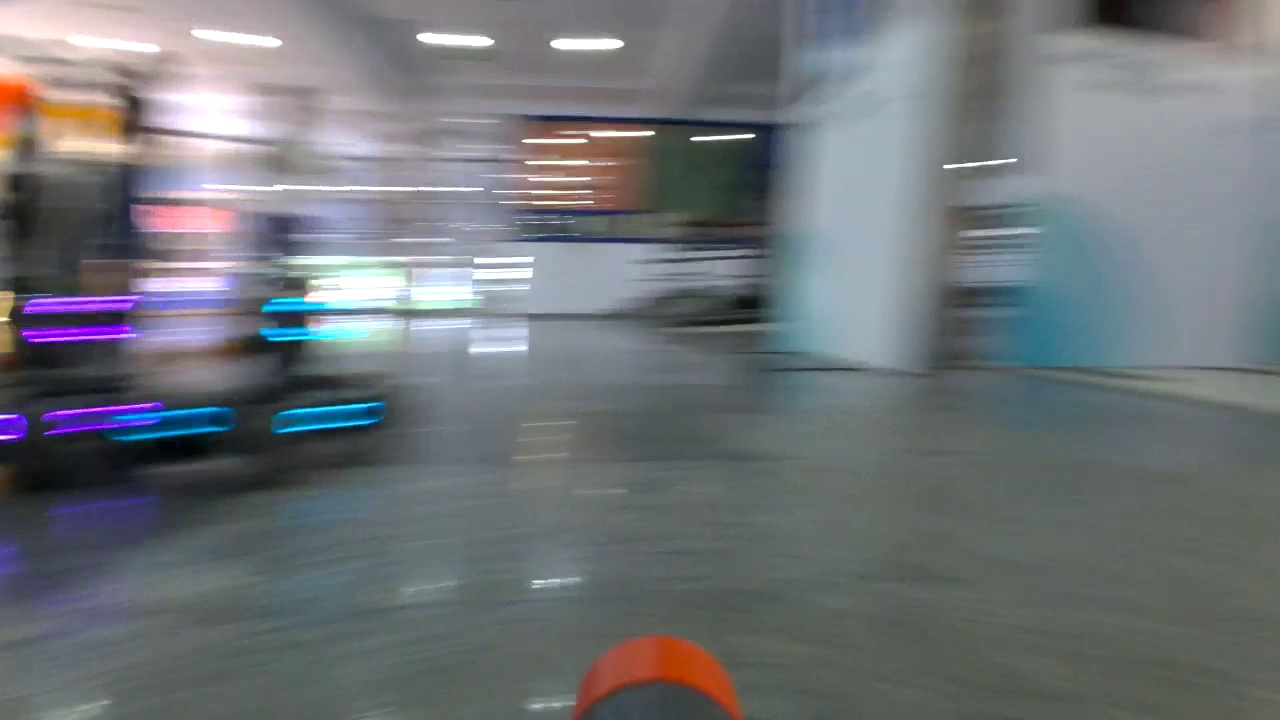robot: (106, 275, 383, 477), (1, 294, 155, 471)
